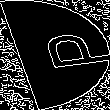P_W: (9, 31, 101, 79)
